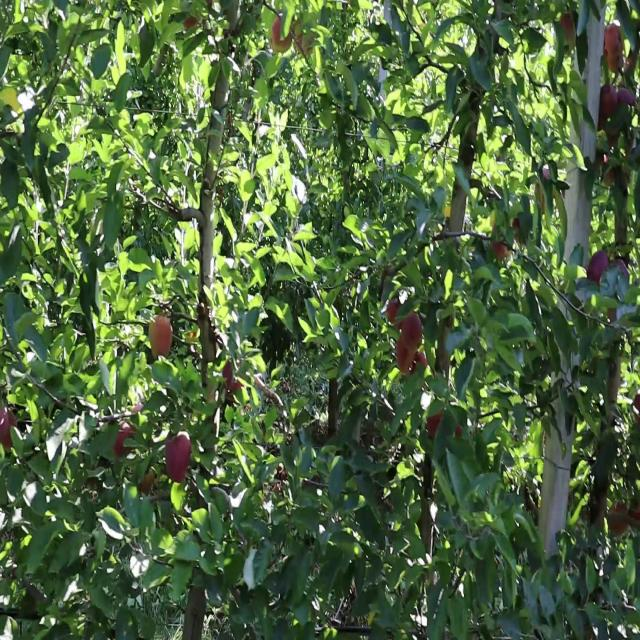apple: (164, 430, 192, 486), (148, 314, 173, 361), (268, 13, 292, 52), (394, 336, 416, 374), (588, 250, 610, 284), (403, 311, 423, 348), (560, 12, 576, 56), (605, 20, 624, 56), (386, 295, 402, 329), (601, 83, 617, 115)
